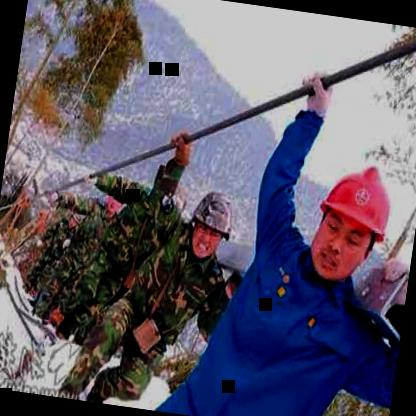helmet: (298, 151, 401, 292), (180, 179, 242, 268)
